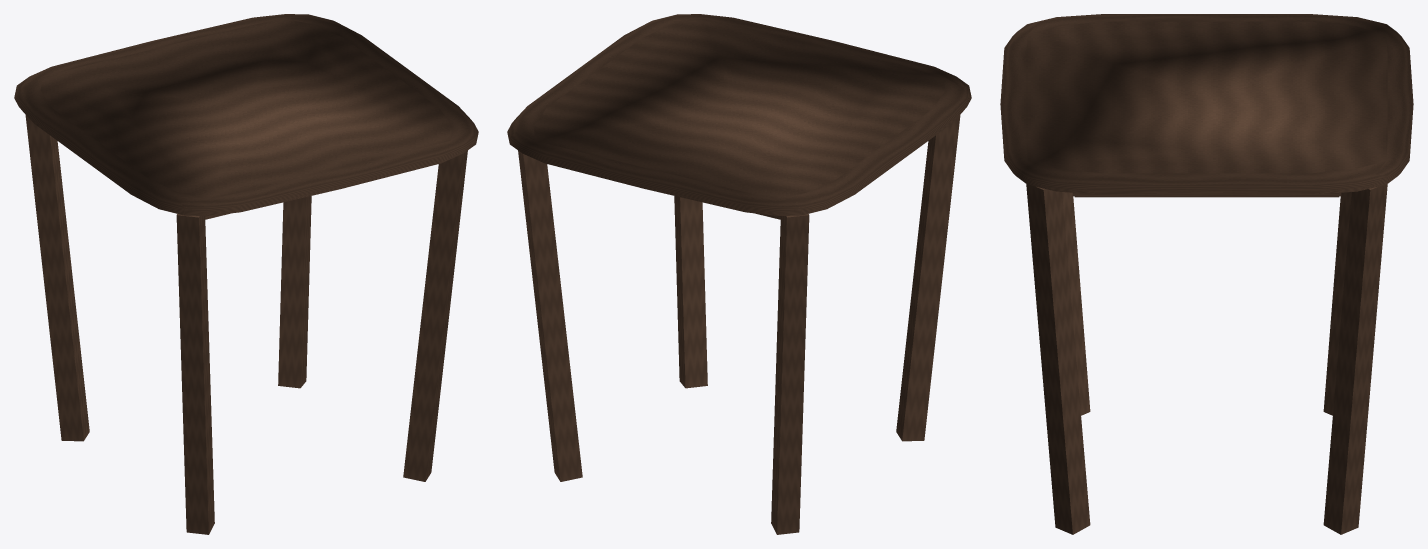
3 renders of one model, left to right at view 1: azimuth 30°, elevation 25°; view 2: azimuth 150°, elevation 25°; view 3: azimuth 270°, elevation 25°, orthographic. The views are drawn at different scales.
Visible parts, largest first — view 1: 1 tabletop, 8 back_left_leg, 6 front_left_leg, 7 front_right_leg, 9 back_right_leg; view 2: 1 tabletop, 6 front_left_leg, 8 back_left_leg, 9 back_right_leg, 7 front_right_leg; view 3: 1 tabletop, 7 front_right_leg, 9 back_right_leg, 6 front_left_leg, 8 back_left_leg, 5 right_apron.
Boxes of the visible parts, box(x1,y1,x2,y2) form: 1 tabletop: box(14, 14, 478, 215); 8 back_left_leg: box(25, 114, 89, 441); 6 front_left_leg: box(176, 214, 214, 534); 7 front_right_leg: box(403, 150, 467, 481); 9 back_right_leg: box(278, 196, 311, 388); 1 tabletop: box(507, 14, 971, 215); 6 front_left_leg: box(896, 114, 960, 441); 8 back_left_leg: box(771, 214, 809, 534); 9 back_right_leg: box(518, 150, 582, 481); 7 front_right_leg: box(674, 196, 707, 388); 1 tabletop: box(1000, 14, 1413, 194); 7 front_right_leg: box(1026, 184, 1090, 534); 9 back_right_leg: box(1323, 184, 1387, 534); 6 front_left_leg: box(1062, 192, 1090, 415); 8 back_left_leg: box(1323, 192, 1351, 415); 5 right_apron: box(1074, 193, 1339, 197).
Bounding box in the file's own units: 1 × 1 × 1.
1 material, 1 textured.
